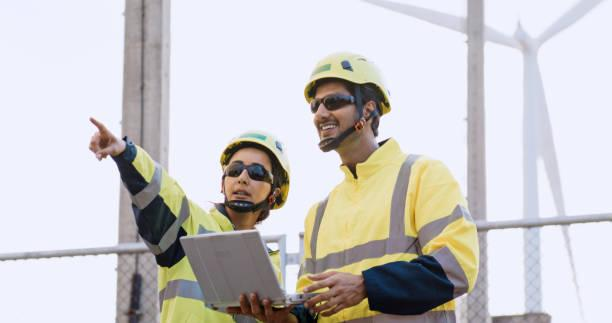goggle: (221, 156, 280, 189), (304, 86, 360, 118)
helmet: (298, 47, 405, 126), (216, 124, 299, 214)
no_vest: (130, 130, 290, 322)
vest: (291, 113, 481, 322)
